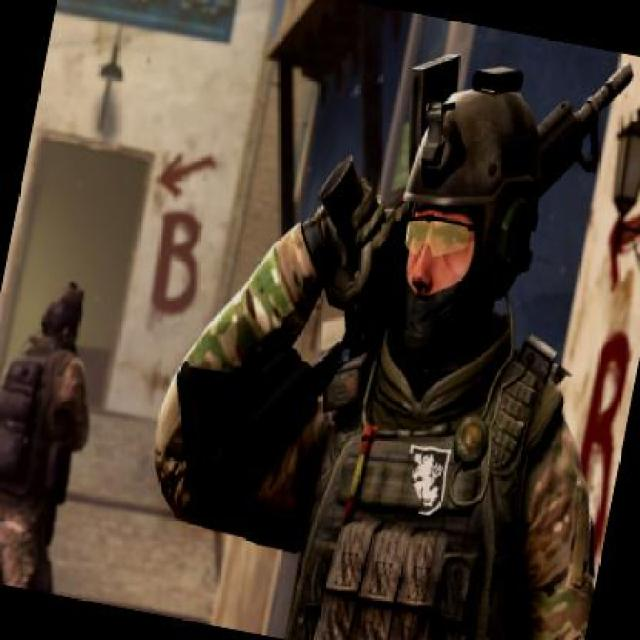MIL_Pax: (116, 11, 638, 638), (0, 262, 118, 595)
